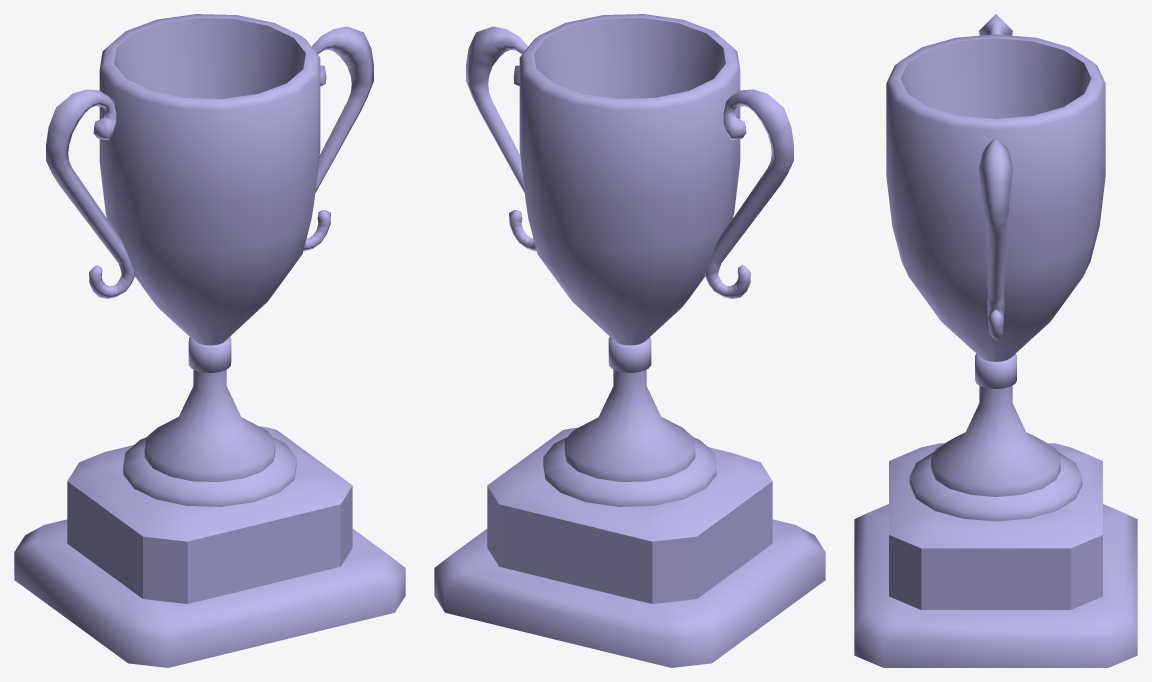
The model's file is Cup_08.fbx.
3 views of the same model, side by side, from view 1: azimuth 30°, elevation 25°; view 2: azimuth 150°, elevation 25°; view 3: azimuth 270°, elevation 25° (orthographic).
Visible parts, largest first — view 1: Cup_08; view 2: Cup_08; view 3: Cup_08.
Part boxes in pixels (bbox=[...]): Cup_08: bbox=[14, 14, 405, 667]; Cup_08: bbox=[434, 14, 825, 667]; Cup_08: bbox=[854, 14, 1137, 667].
Size of the model in its own units: 26.53 by 40.87 by 20.07.
